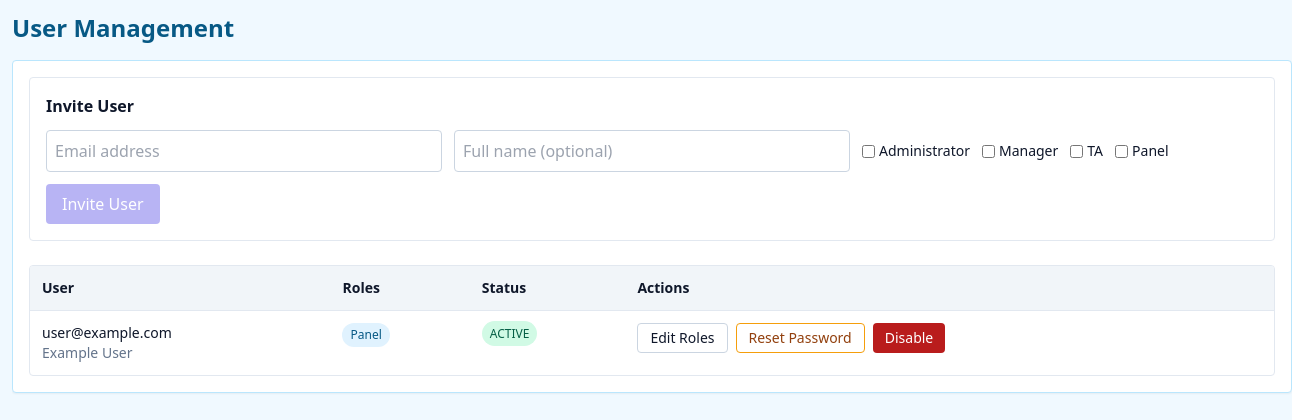
UsersPage password reset › shows the Cognito reason when a password reset fails
This screenshot has width=1292, height=420.
Click the button "Reset Password" at (800,338), box [736,323,865,353]
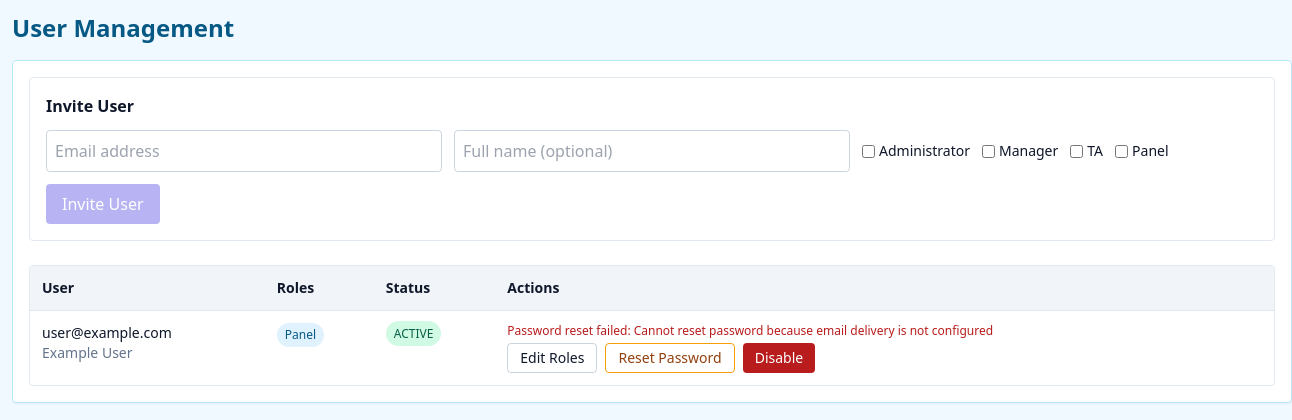
Expected: the text "Password reset failed: Cannot reset password because email delivery is not configured" is shown, [507,322,993,339]
